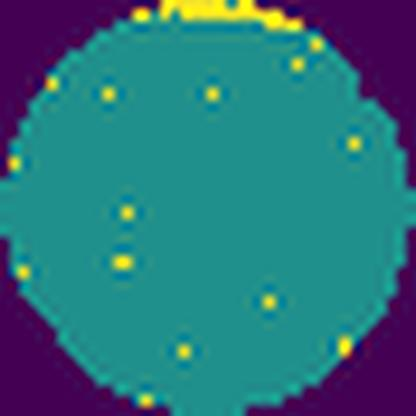Edge-Loc: (154, 0, 302, 40)
